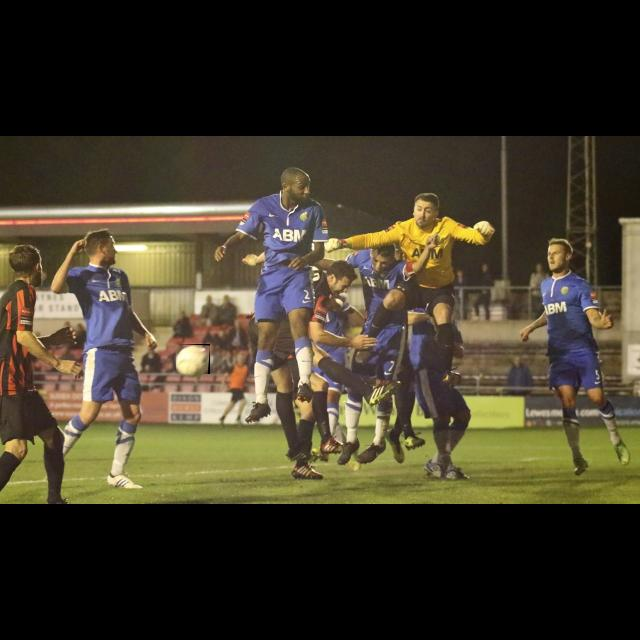Football: (176, 344, 210, 374)
